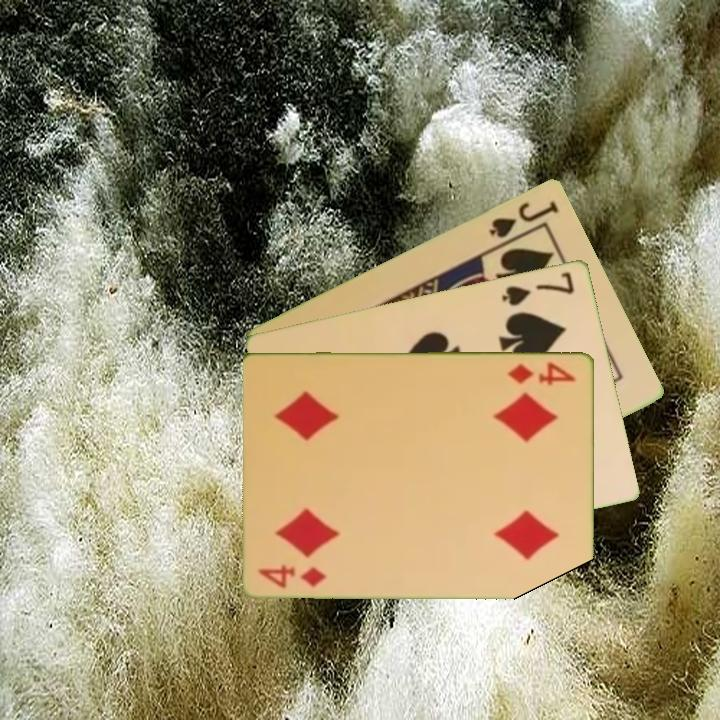4d: (505, 358, 579, 388), (255, 561, 329, 591)
7s: (498, 267, 578, 309)
Js: (485, 196, 562, 241)
